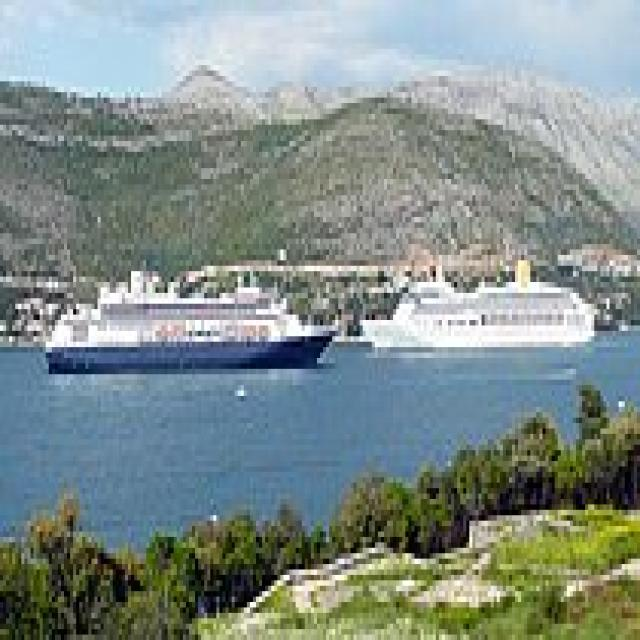boat: (57, 285, 334, 368), (365, 296, 604, 354)
